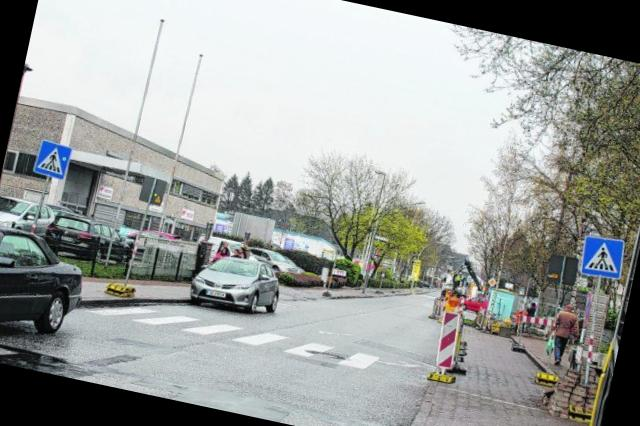crosswalk-sign: (578, 232, 629, 283), (33, 139, 74, 181)
